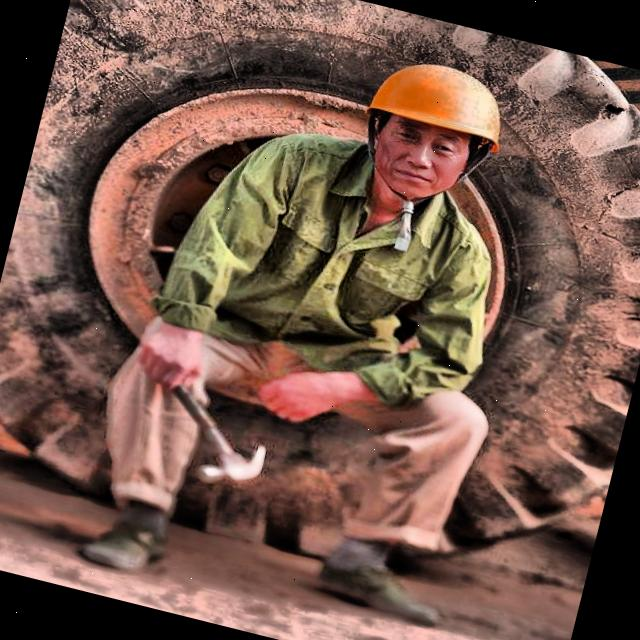helmet: (310, 38, 536, 238)
